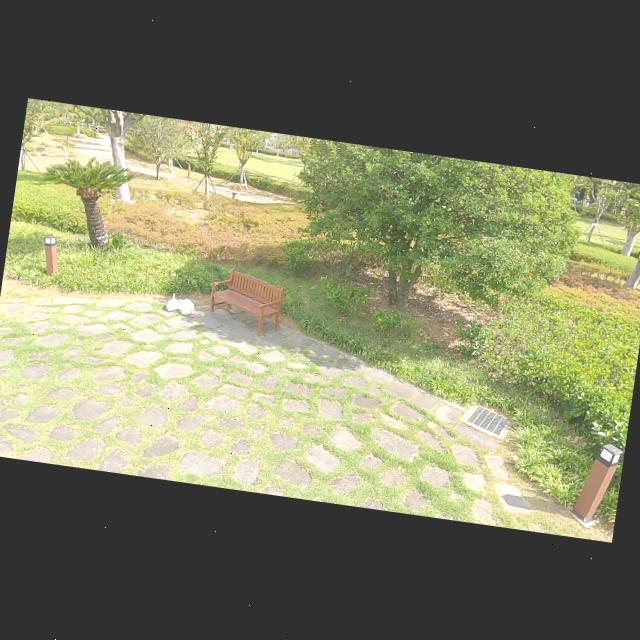trash: (164, 290, 186, 312), (175, 295, 196, 317)
